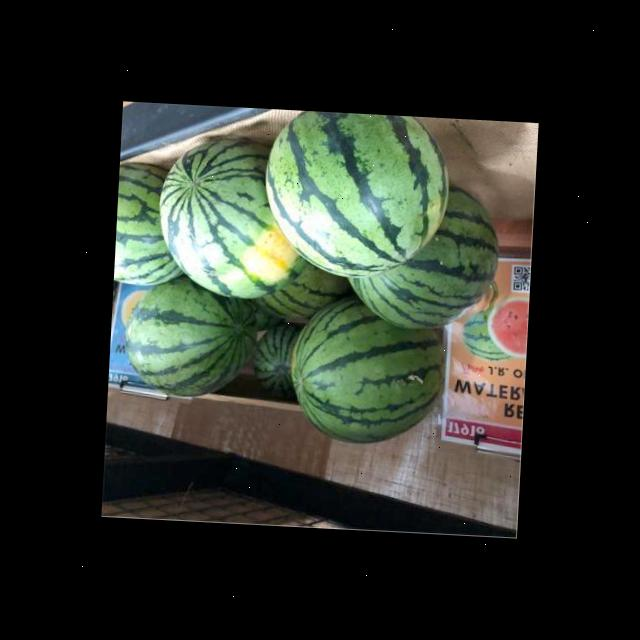watermelon: (260, 109, 453, 283), (153, 134, 314, 304), (286, 288, 446, 450), (344, 180, 502, 336), (121, 270, 262, 402), (114, 162, 190, 290), (250, 254, 354, 326), (252, 321, 306, 398)
